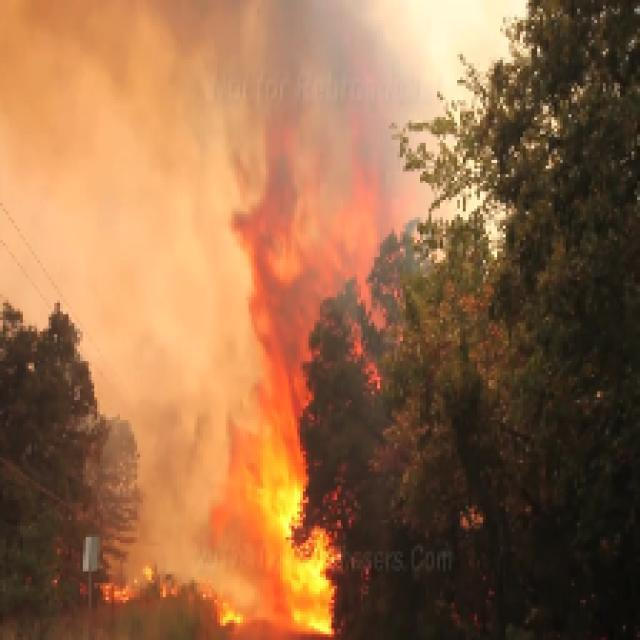Fire: (177, 337, 412, 640)
Smoke: (100, 2, 640, 318), (5, 0, 272, 443)
